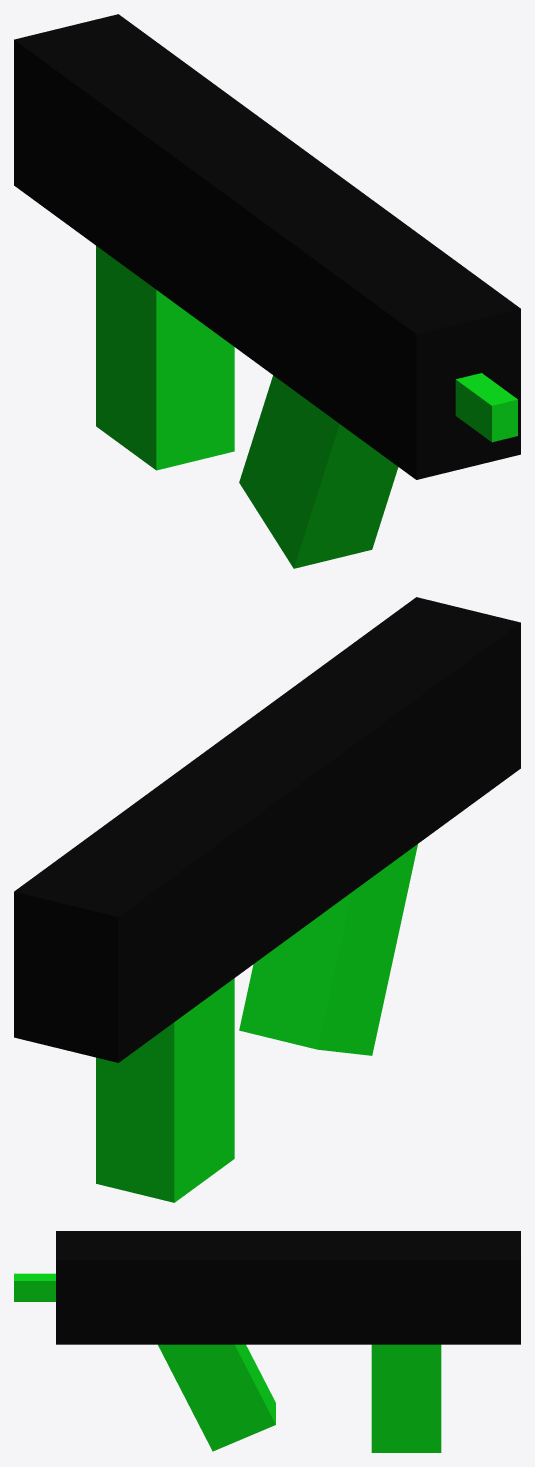
Rendered from SimpleRifle.fbx.
3 renders of one model, top to bottom at view 1: azimuth 30°, elevation 25°; view 2: azimuth 150°, elevation 25°; view 3: azimuth 270°, elevation 25°, orthographic. The views are drawn at different scales.
Parts seen in each view (by area): view 1: Cube; view 2: Cube; view 3: Cube.
Part boxes in pixels (x1,y1,x2,y2): Cube: (14,14,520,568); Cube: (14,597,520,1202); Cube: (14,1231,520,1452).
Bounding box in the file's own units: 12 × 37.23 × 87.21.
